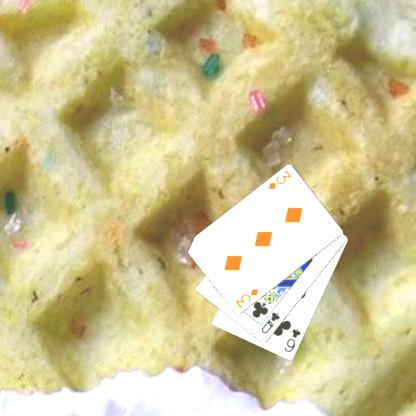3D: (232, 286, 260, 310), (265, 168, 292, 191)
6C: (282, 326, 302, 354)
QC: (258, 309, 281, 335)
